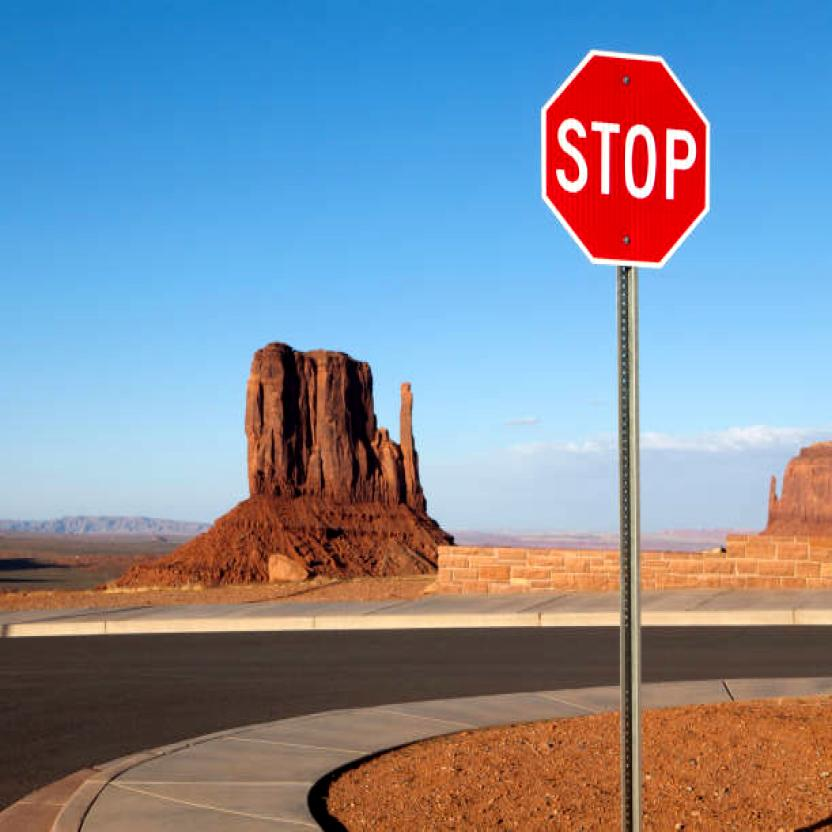Pole: (613, 265, 644, 832)
Sign: (541, 51, 711, 267)
